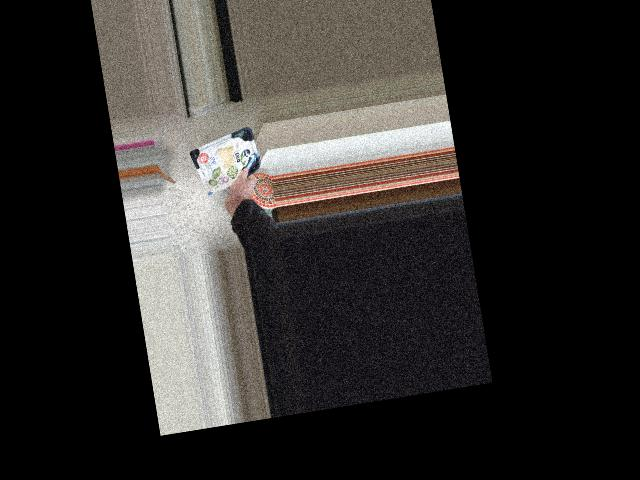cheese: (190, 125, 265, 196)
